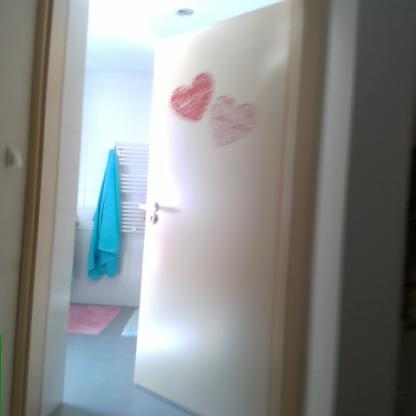semi: (39, 0, 321, 415)
